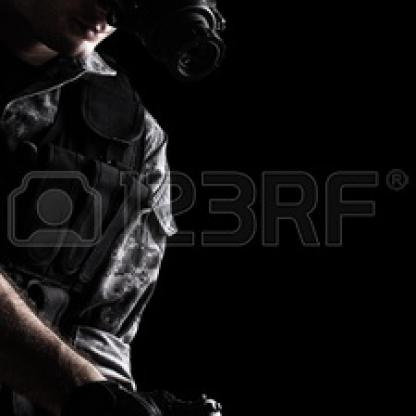gun: (107, 373, 307, 414)
